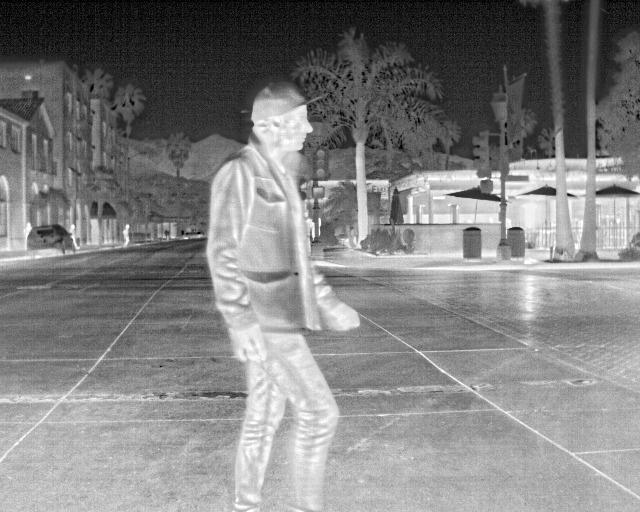bicycle: (26, 222, 77, 260)
empty: (205, 77, 360, 509), (117, 222, 133, 249)
